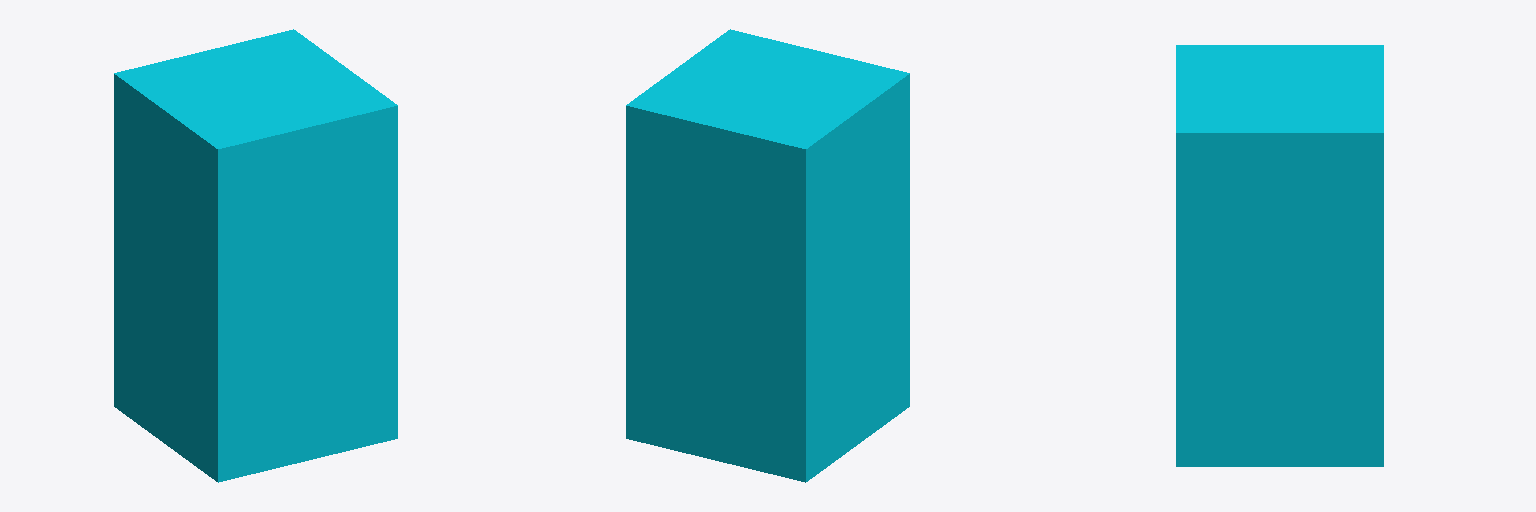
3 renders of one model, left to right at view 1: azimuth 30°, elevation 25°; view 2: azimuth 150°, elevation 25°; view 3: azimuth 270°, elevation 25°, orthographic.
Visible parts, largest first — view 1: 立方體_立方體.007; view 2: 立方體_立方體.007; view 3: 立方體_立方體.007.
Boxes of the visible parts, <box> form: 立方體_立方體.007: <box>114,29,397,482</box>; 立方體_立方體.007: <box>626,29,909,482</box>; 立方體_立方體.007: <box>1176,45,1383,466</box>.
Bounding box in the file's own units: 0.85 × 1.5 × 0.85.
1 materials, 1 textured.